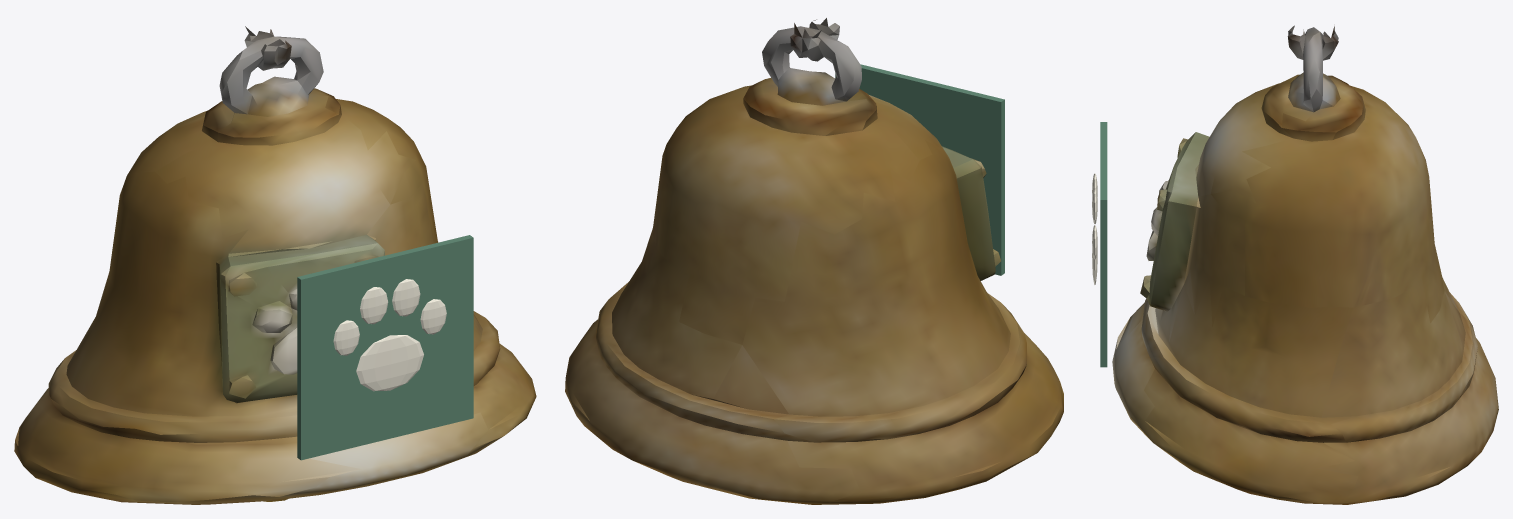
File: bell_paw.glb
3 views of the same model, side by side, from view 1: azimuth 30°, elevation 25°; view 2: azimuth 150°, elevation 25°; view 3: azimuth 270°, elevation 25° (orthographic). The views are drawn at different scales.
Parts seen in each view (by area): view 1: Tripo bell paw, Exact paw symbol plaque, Exact cream paw inlay.001, Exact cream paw inlay.004, Exact cream paw inlay.003, Exact cream paw inlay.002, Exact cream paw inlay; view 2: Tripo bell paw, Exact paw symbol plaque; view 3: Tripo bell paw, Exact paw symbol plaque.
Boxes of the visible parts, bbox=[...] form: Tripo bell paw: bbox=[14, 26, 536, 504]; Exact paw symbol plaque: bbox=[297, 235, 473, 460]; Exact cream paw inlay.001: bbox=[356, 335, 423, 391]; Exact cream paw inlay.004: bbox=[392, 279, 420, 316]; Exact cream paw inlay.003: bbox=[360, 287, 388, 324]; Exact cream paw inlay.002: bbox=[333, 320, 359, 355]; Exact cream paw inlay: bbox=[420, 299, 446, 334]; Tripo bell paw: bbox=[565, 18, 1063, 504]; Exact paw symbol plaque: bbox=[835, 64, 1004, 275]; Tripo bell paw: bbox=[1112, 25, 1498, 504]; Exact paw symbol plaque: bbox=[1100, 122, 1107, 367].
Size of the model in its own units: 0.5785 by 0.5507 by 0.4633.
3 materials, 1 textured.
